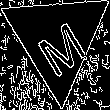M_NW: (27, 5, 87, 74)
